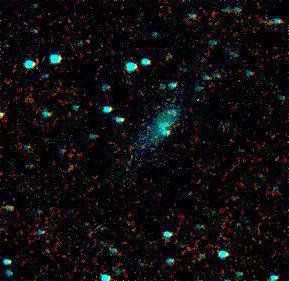star: (160, 95, 190, 125)
